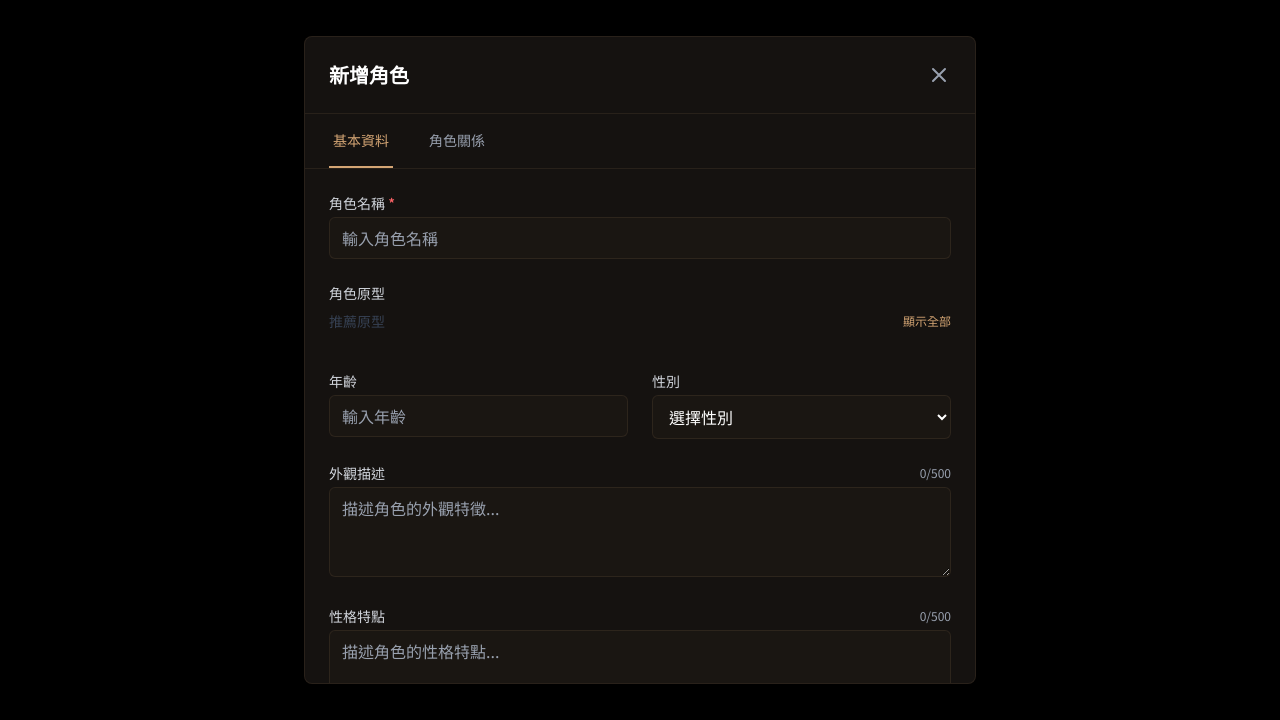
it: CharacterModal › validates age range
Expected: the number field labelled "年齡" is shown, left=329, top=395, right=628, bottom=437
Type "測試角色" into the field labelled "角色名稱 *".
click(640, 238); type("測試角色")  # box left=329, top=217, right=951, bottom=259
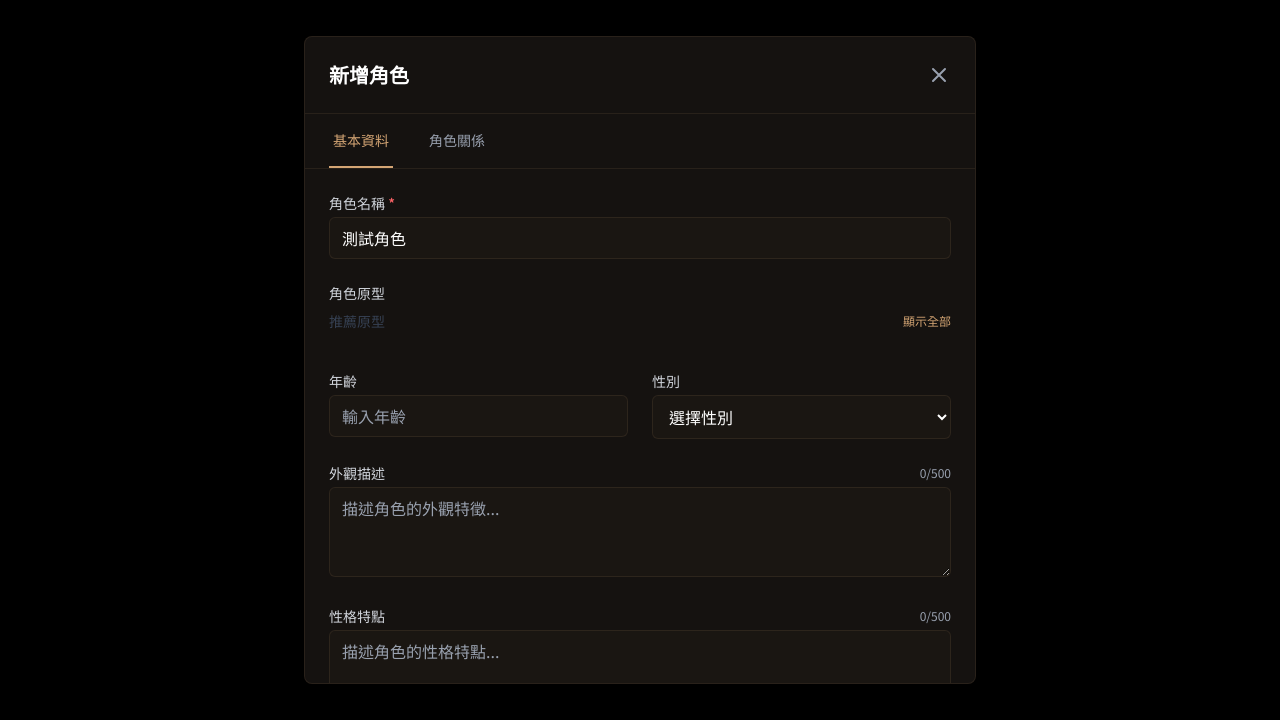
Type "1001" into the number field labelled "年齡".
click(478, 416); type("1001")  # box left=329, top=395, right=628, bottom=437
(page scrolled)
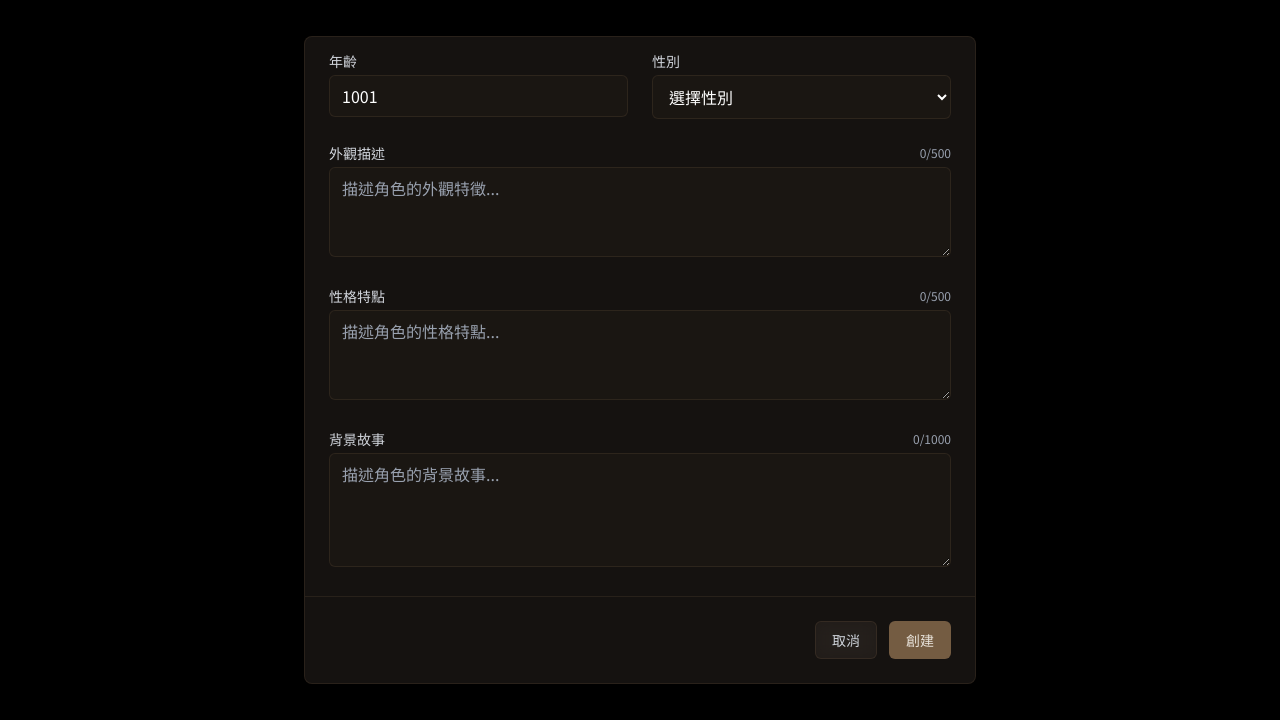
Click the button "創建".
click(920, 640)  # box left=889, top=621, right=951, bottom=659
(page scrolled)
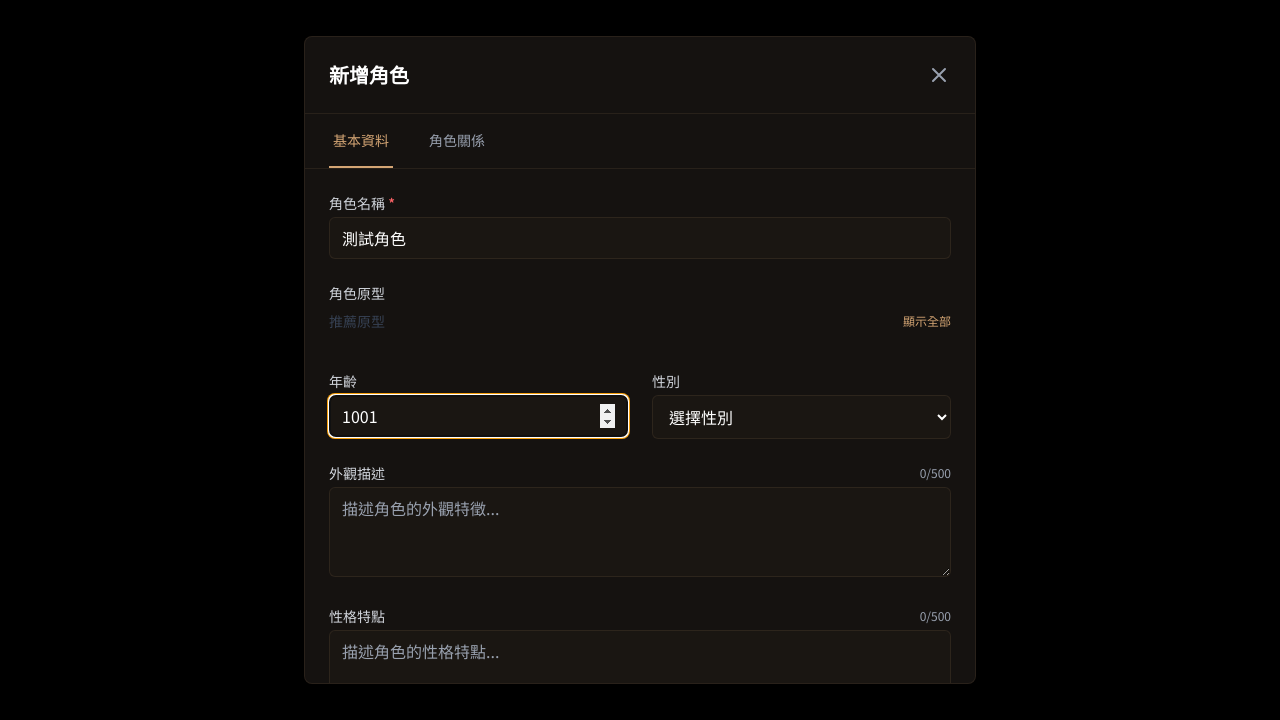
Expected: the heading "新增角色" is shown, left=329, top=61, right=409, bottom=89
